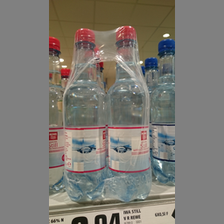water: (109, 25, 154, 203), (63, 27, 106, 204)
